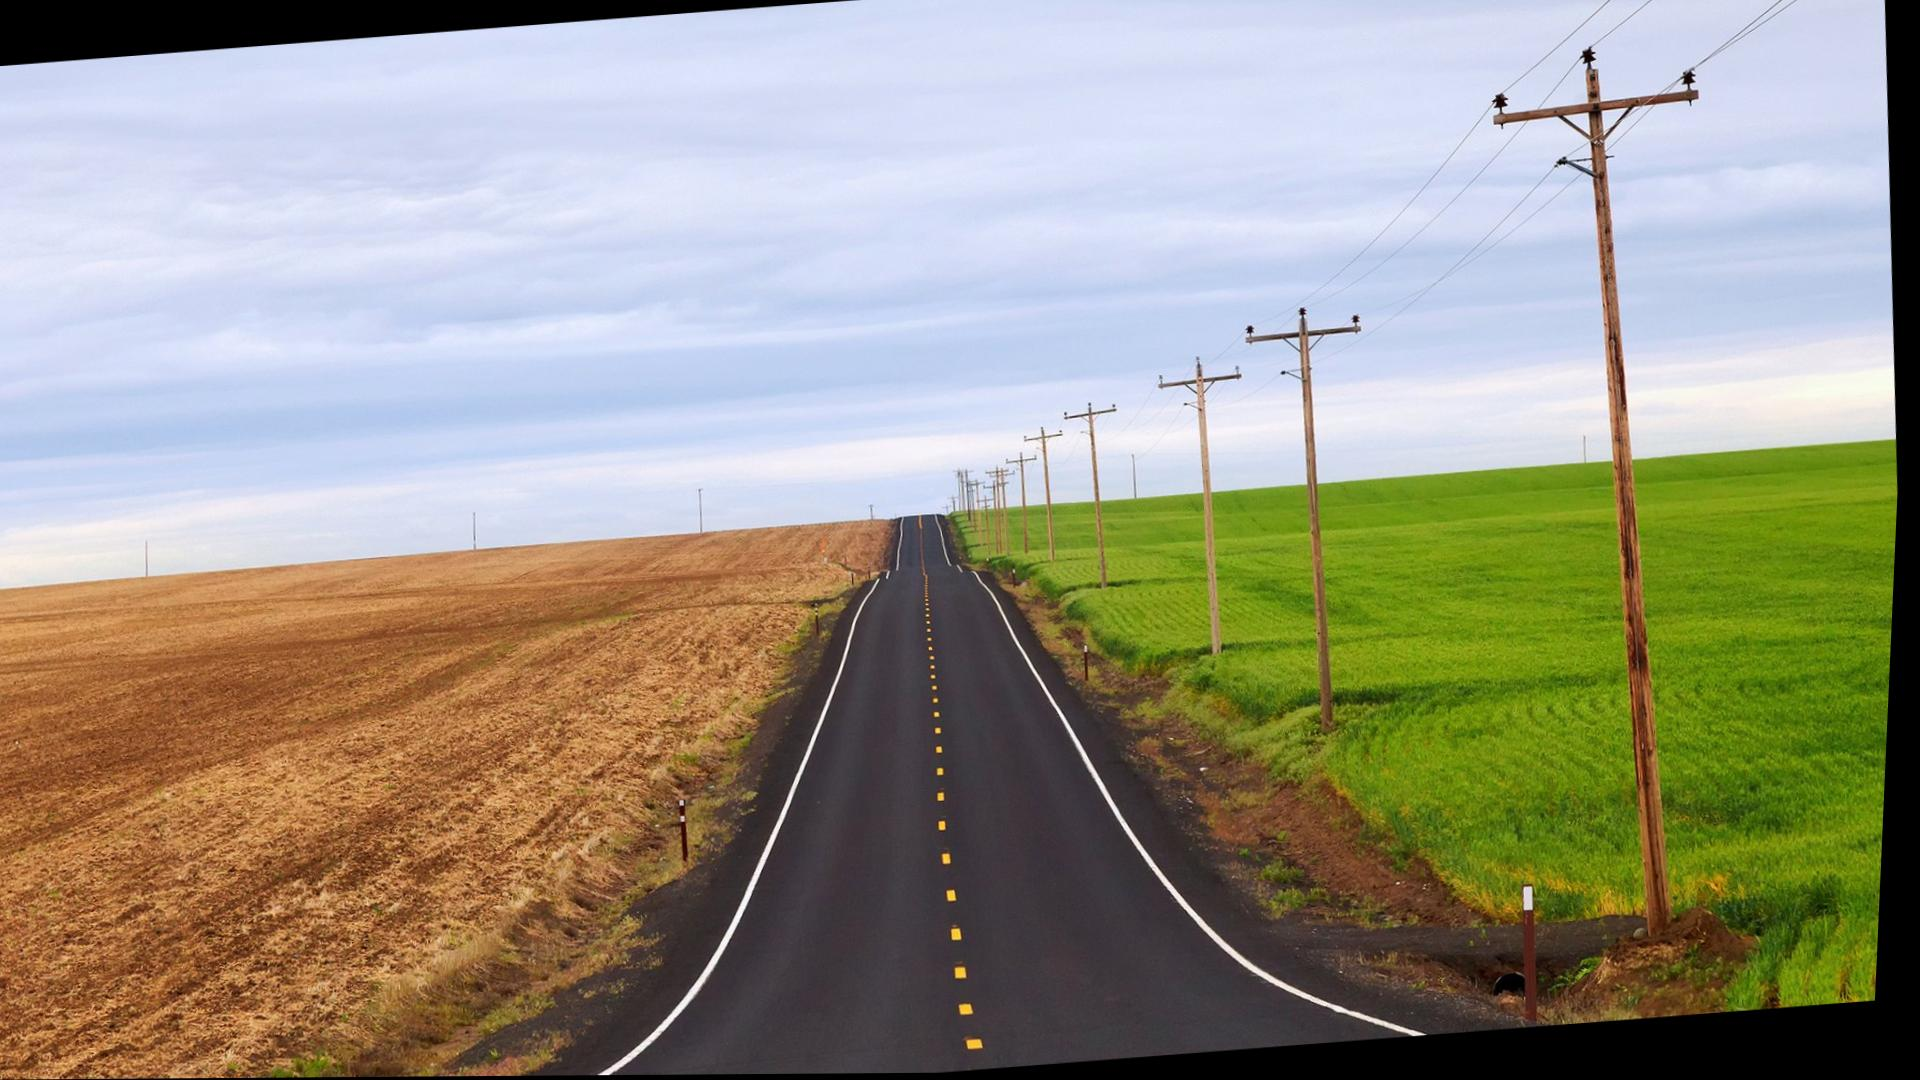Animal: (1449, 30, 1801, 982), (1228, 281, 1445, 760), (1150, 340, 1296, 692), (1052, 390, 1174, 597), (1014, 417, 1105, 592)
